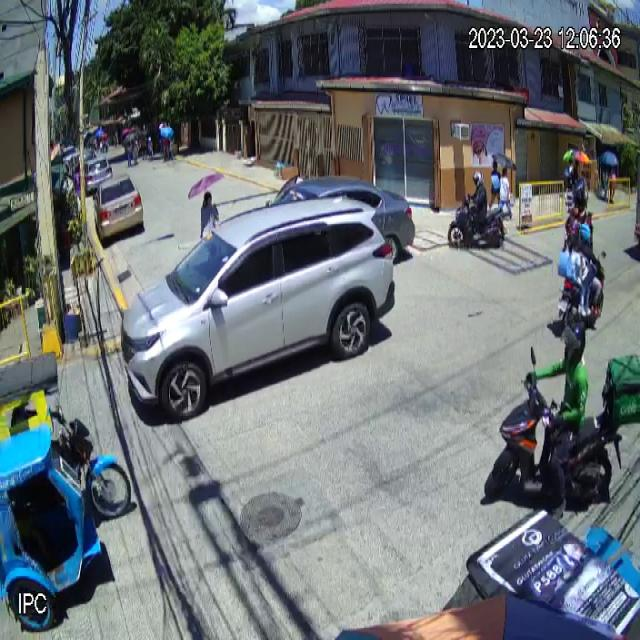Car: (119, 193, 396, 423)
Motorcycle: (481, 343, 623, 515), (448, 190, 508, 251)
Tricycle: (0, 349, 134, 634)
